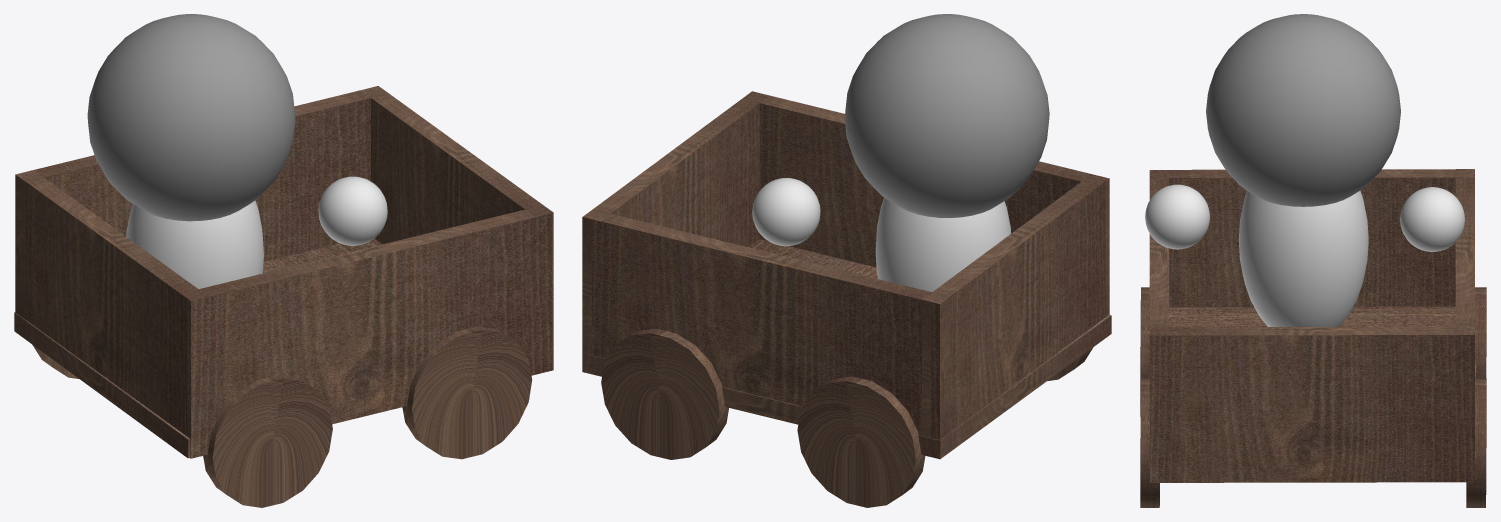
3 views of the same model, side by side, from view 1: azimuth 30°, elevation 25°; view 2: azimuth 150°, elevation 25°; view 3: azimuth 270°, elevation 25° (orthographic). The views are drawn at different scales.
Visible parts, largest first — view 1: Box004, Sphere001, Box002, Box001, Box003, Cylinder003, Cylinder001, Sphere004, Box005, Sphere002; view 2: Box001, Sphere001, Box002, Box004, Box003, Cylinder004, Cylinder002, Sphere004, Box005, Sphere003; view 3: Box003, Sphere001, Box002, Sphere004, Box005, Sphere002, Sphere003, Box001, Box004, Cylinder002, Cylinder001, Cylinder004 (+1 smaller).
Boxes of the visible parts, <box> form: Box004: <box>187,209,552,458</box>; Sphere001: <box>87,14,295,221</box>; Box002: <box>16,170,208,435</box>; Box001: <box>15,90,370,319</box>; Box003: <box>361,86,553,370</box>; Cylinder003: <box>203,375,332,507</box>; Cylinder001: <box>402,326,532,459</box>; Sphere004: <box>126,200,263,289</box>; Box005: <box>14,238,381,458</box>; Sphere002: <box>318,176,387,245</box>; Box001: <box>592,214,950,459</box>; Sphere001: <box>844,14,1049,217</box>; Box002: <box>922,174,1108,456</box>; Box004: <box>759,95,1109,316</box>; Box003: <box>582,91,769,374</box>; Cylinder004: <box>797,376,925,507</box>; Cylinder002: <box>601,328,728,459</box>; Sphere004: <box>875,197,1011,291</box>; Box005: <box>584,239,1111,459</box>; Sphere003: <box>752,178,820,246</box>; Box003: <box>1149,326,1474,482</box>; Sphere001: <box>1206,14,1400,206</box>; Box002: <box>1149,169,1474,307</box>; Sphere004: <box>1238,190,1368,326</box>; Box005: <box>1169,306,1475,480</box>; Sphere002: <box>1145,184,1209,249</box>; Sphere003: <box>1400,187,1464,251</box>; Box001: <box>1455,169,1474,326</box>; Box004: <box>1149,172,1169,481</box>; Cylinder002: <box>1466,378,1486,507</box>; Cylinder001: <box>1140,378,1159,507</box>; Cylinder004: <box>1475,287,1486,378</box>.
Bounding box in the file's own units: 61.54 × 66.13 × 53.27.
2 materials, 1 textured.
